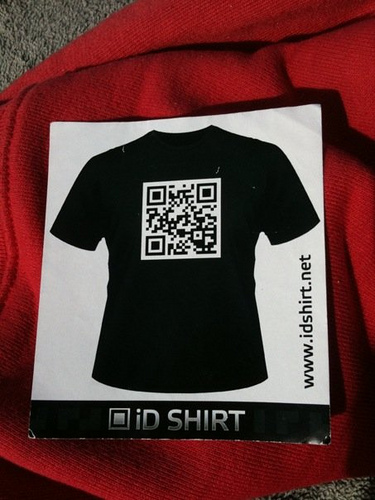QR-CODE: (146, 183, 216, 255)
